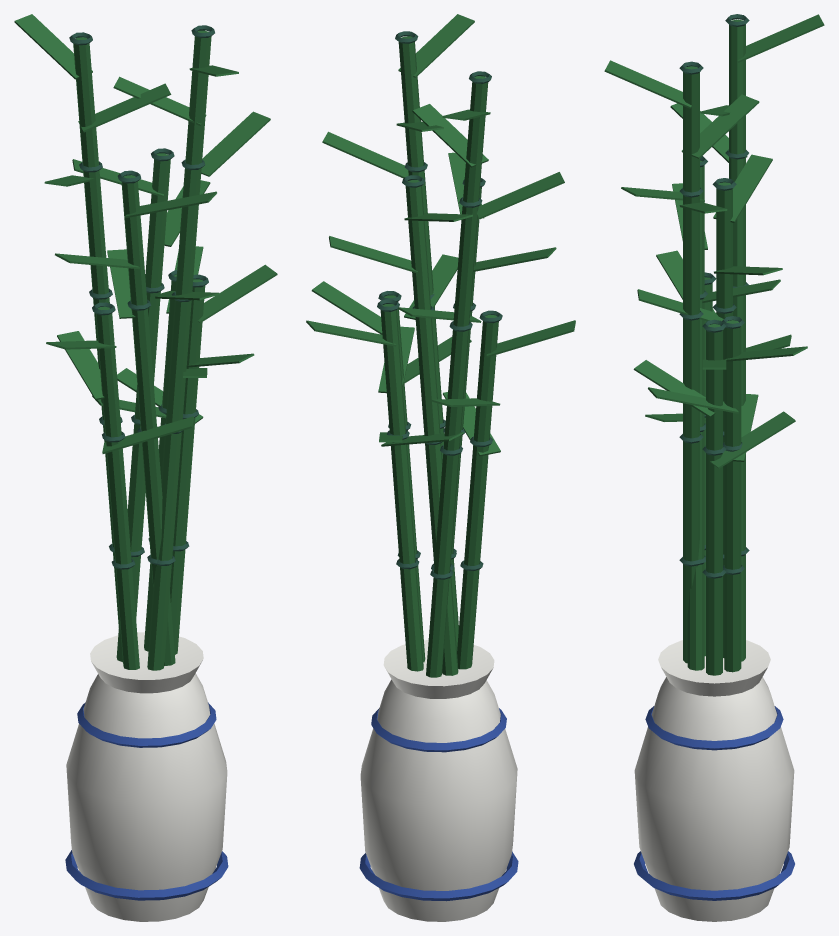
The model's file is plant.glb.
The picture shows the model from 3 angles, left to right: view 1: azimuth 30°, elevation 25°; view 2: azimuth 150°, elevation 25°; view 3: azimuth 270°, elevation 25°; orthographic projection. The views are drawn at different scales.
Visible parts, largest first — view 1: plant; view 2: plant; view 3: plant.
Part boxes in pixels (<box>): plant: <box>14,14,277,921</box>; plant: <box>306,14,575,921</box>; plant: <box>604,14,824,921</box>.
Bounding box in the file's own units: 0.5927 × 2.01 × 0.4686.
